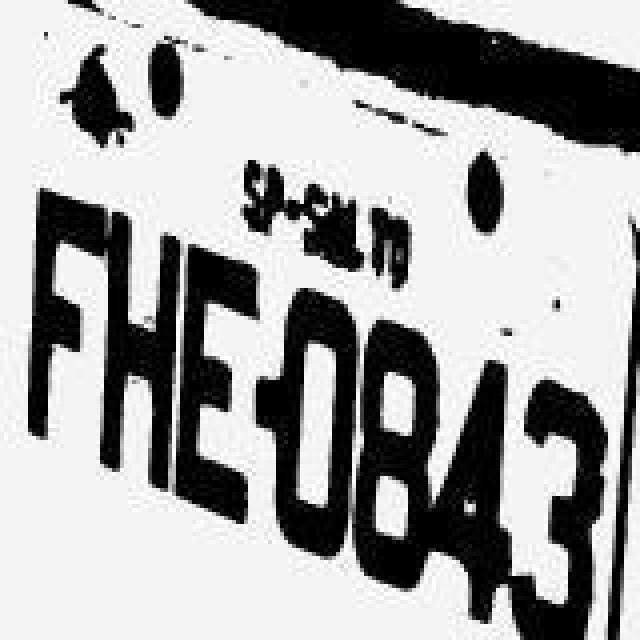3: (510, 354, 610, 638)
4: (430, 350, 514, 626)
8: (352, 318, 440, 594)
E: (172, 244, 260, 532)
F: (26, 184, 110, 448)
H: (100, 212, 180, 492)
O: (274, 288, 358, 560)
